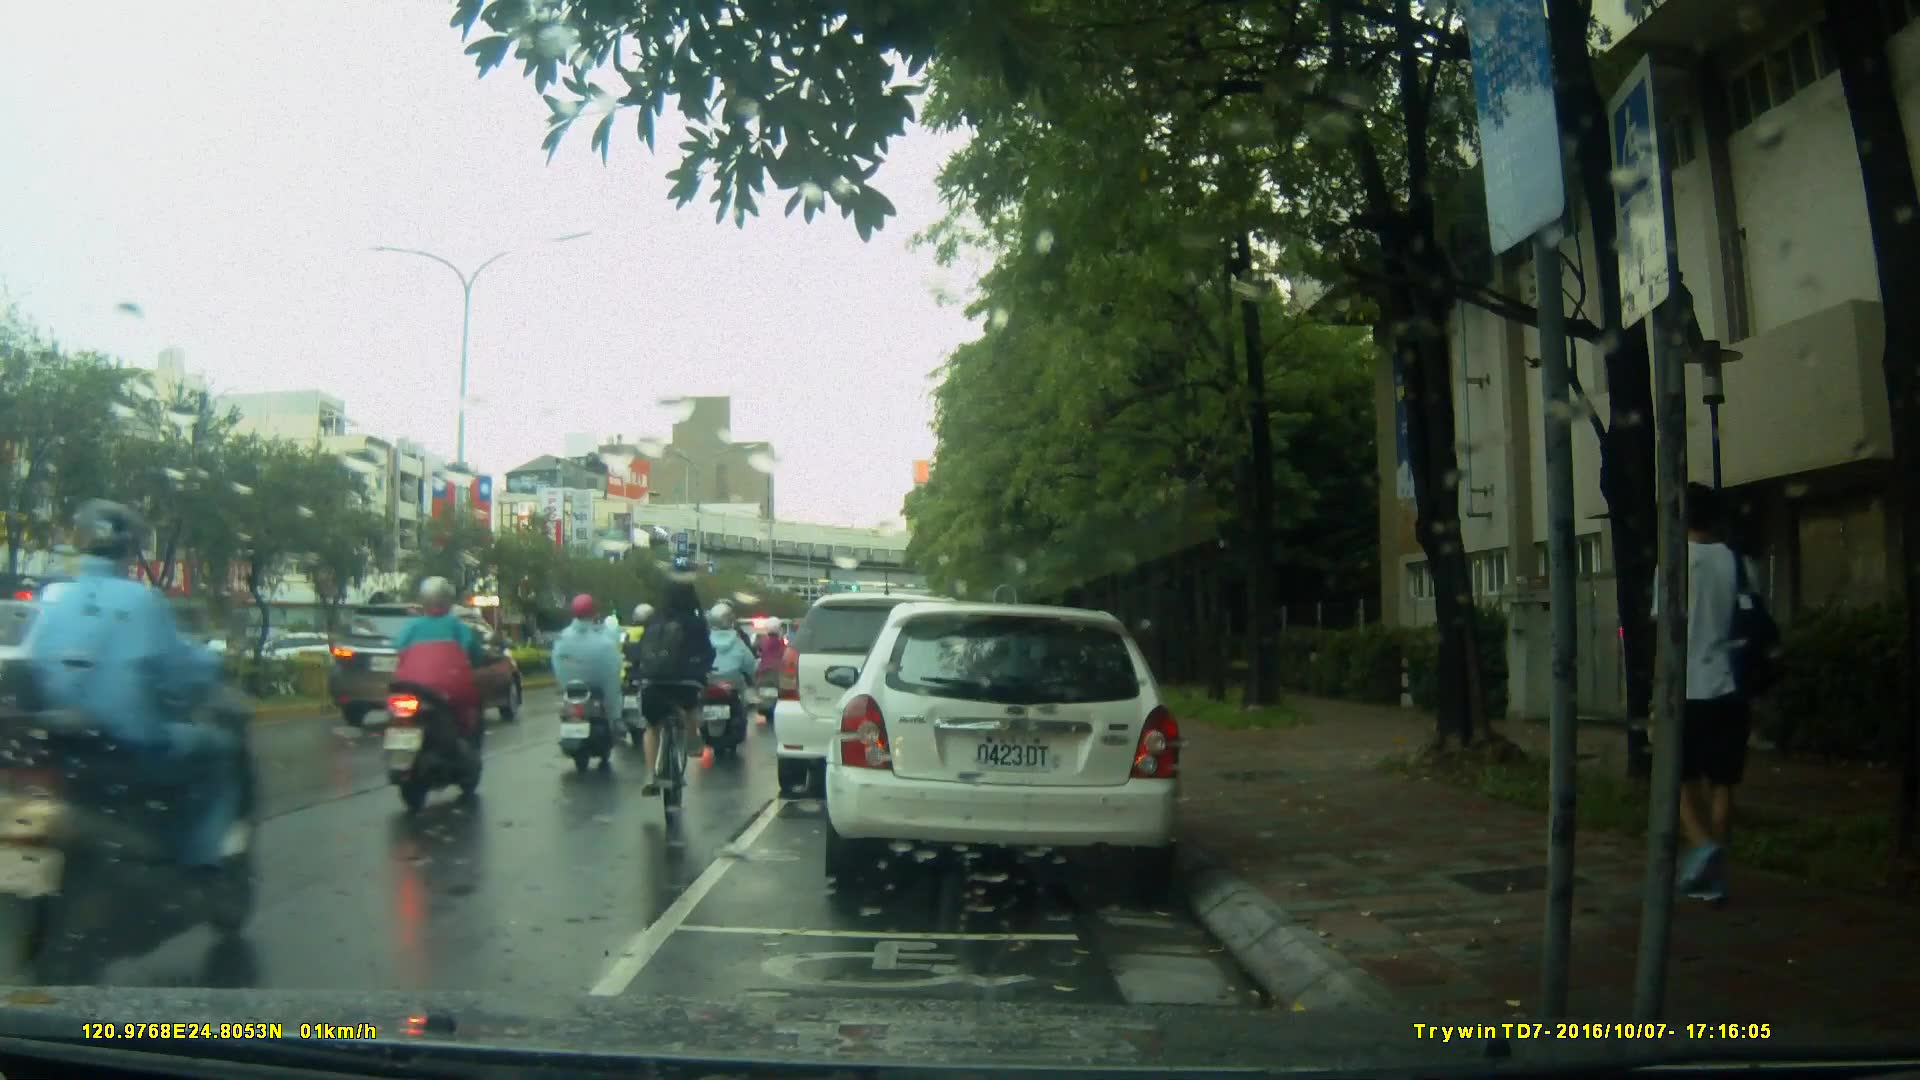pedestrian: (1642, 480, 1761, 939)
rider: (7, 498, 250, 971), (376, 578, 490, 814), (640, 572, 720, 820), (551, 594, 636, 773), (690, 601, 752, 743), (702, 597, 756, 741), (616, 601, 668, 739), (587, 612, 642, 722), (755, 621, 795, 724)
vehicle: (822, 604, 1188, 883), (774, 595, 995, 802), (322, 601, 525, 726)
